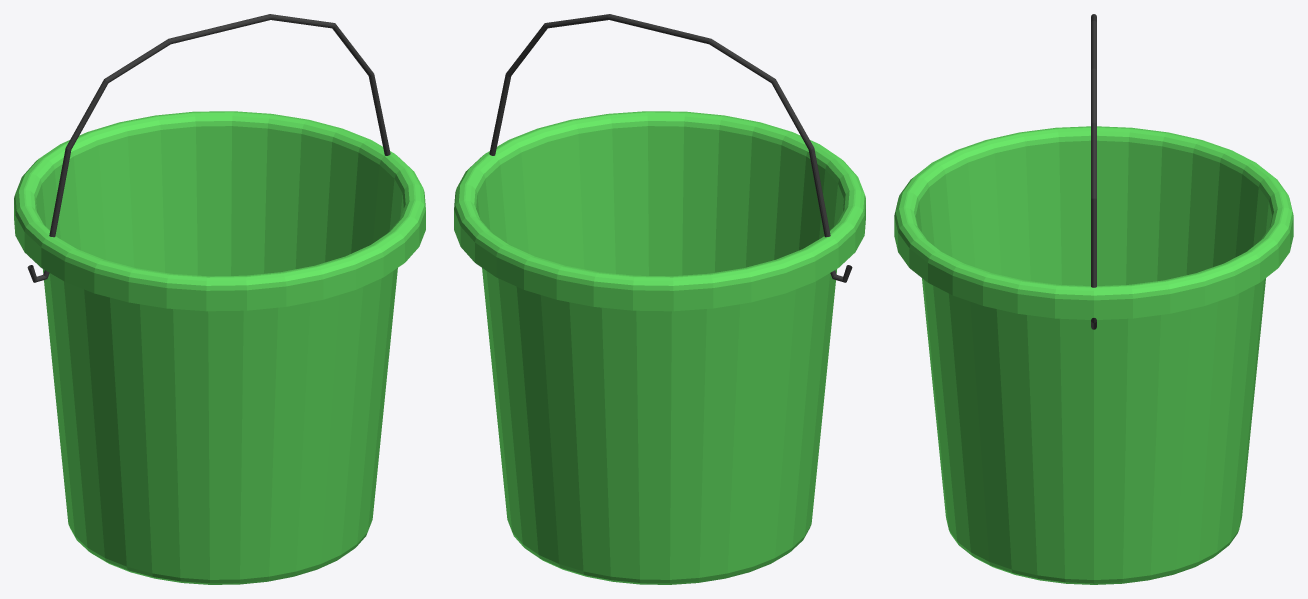
The model's file is Bucket.fbx.
The picture shows the model from 3 angles, left to right: view 1: azimuth 30°, elevation 25°; view 2: azimuth 150°, elevation 25°; view 3: azimuth 270°, elevation 25°; orthographic projection. The views are drawn at different scales.
Parts seen in each view (by area): view 1: Cylinder, Plane; view 2: Cylinder, Plane; view 3: Cylinder, Plane.
Boxes of the visible parts, x1,y1,x2,y2 form: Cylinder: (14, 111, 425, 584); Plane: (27, 14, 390, 282); Cylinder: (454, 111, 865, 584); Plane: (489, 14, 852, 282); Cylinder: (894, 126, 1293, 584); Plane: (1091, 14, 1096, 329).
Size of the model in its own units: 292 by 361 by 271.
